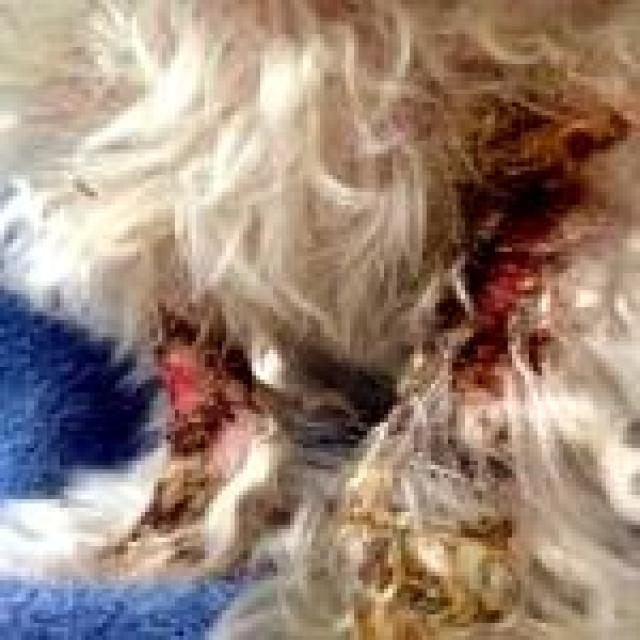fungal infection: (443, 41, 627, 390), (132, 291, 266, 452)
